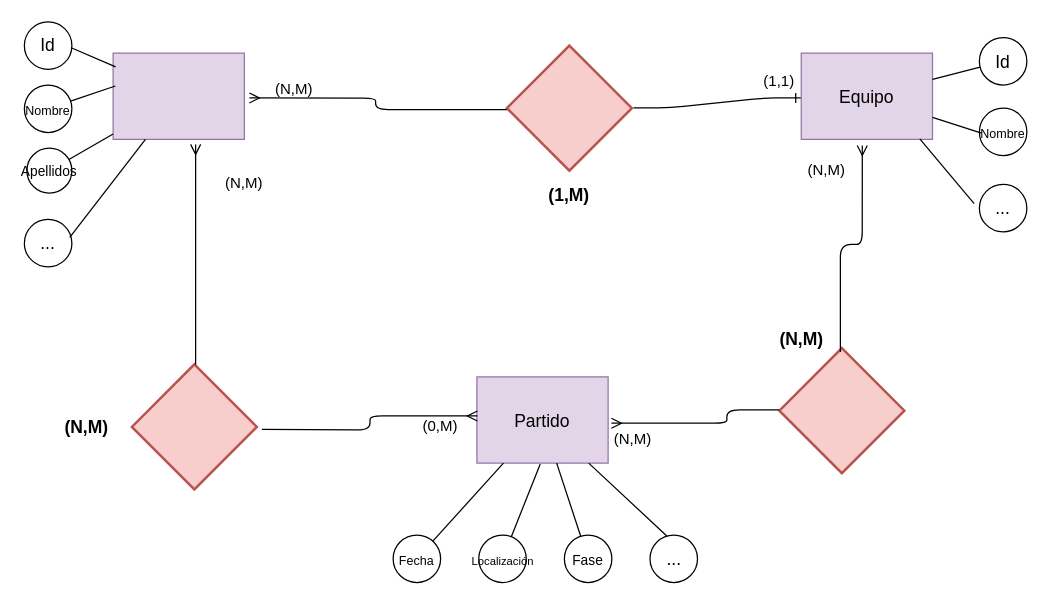
The diagram is 1049 pixels wide and 605 high, and some of its shapes have lost their labels. The shapes that lost their labels are listed below. From the top down, each one's centre as x and y in pixels, then its label:
(178,95): Jugador
(568,107): pertenecer
(194,426): disputar
(841,410): jugar
